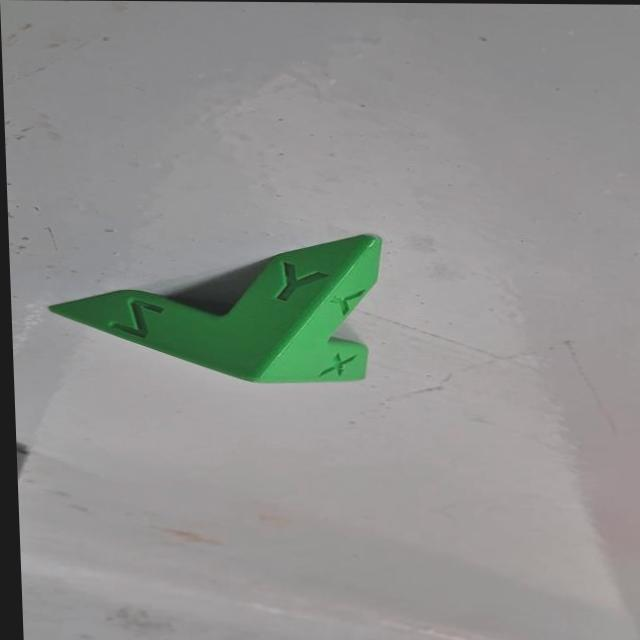eje: (35, 226, 406, 389)
